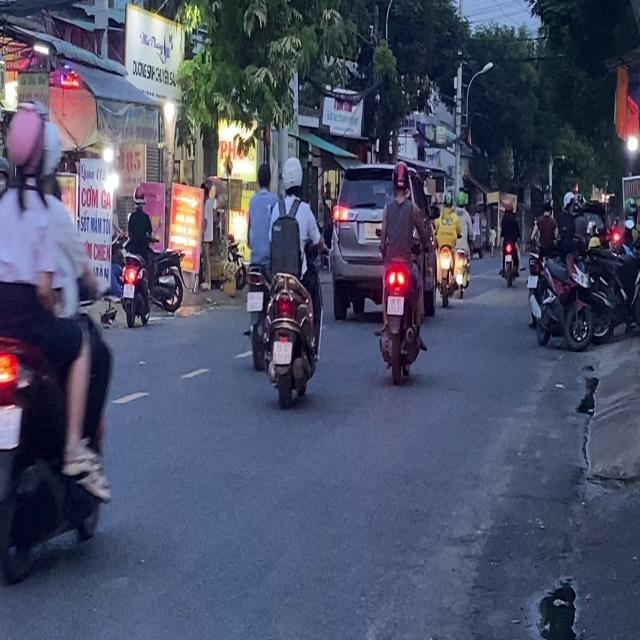helmet: (3, 102, 52, 198), (38, 112, 64, 198), (281, 156, 303, 195), (391, 161, 409, 198), (0, 153, 10, 200), (133, 184, 145, 207)
licenseplate: (0, 99, 114, 588), (265, 154, 324, 408), (376, 160, 427, 383), (242, 160, 278, 368), (120, 184, 154, 327)
motorcyclist: (256, 162, 272, 190)
nohelmet: (0, 406, 20, 447), (272, 341, 292, 364), (246, 291, 263, 310), (387, 295, 403, 314), (123, 284, 134, 298)
